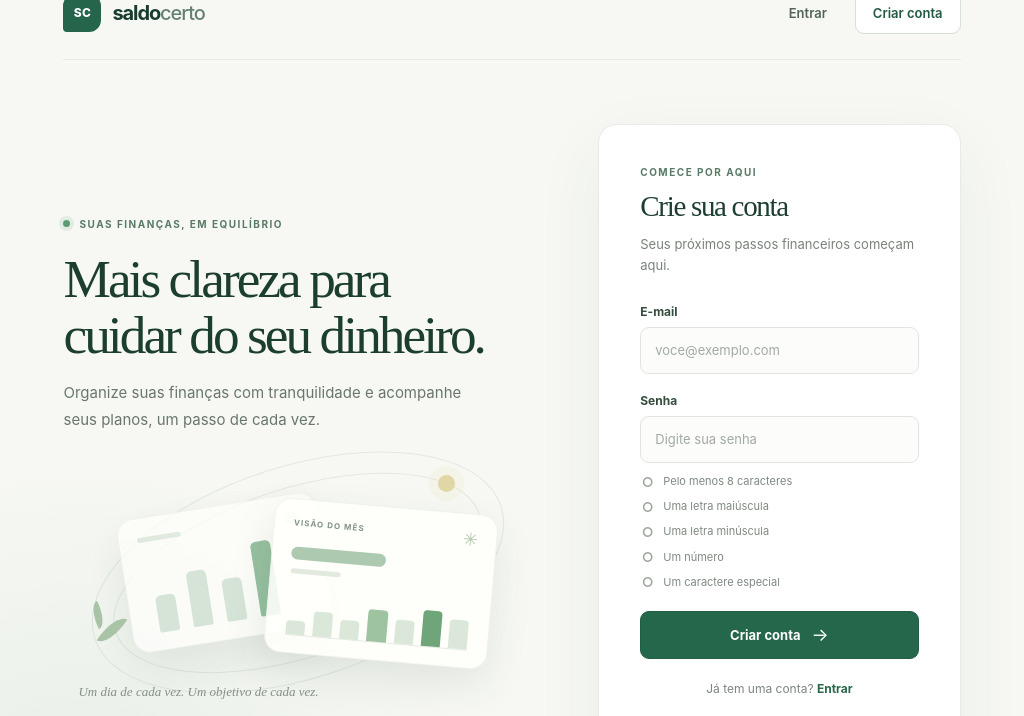
Test: authentication forms › enforces password rules and submits registration through the mocked API
Expected: the heading "Crie sua conta" is shown, top-left (640, 190), bottom-right (788, 222)
In the field labelled "E-mail": point(779, 350) top-left (640, 327), bottom-right (919, 374), type "tito@example.com"
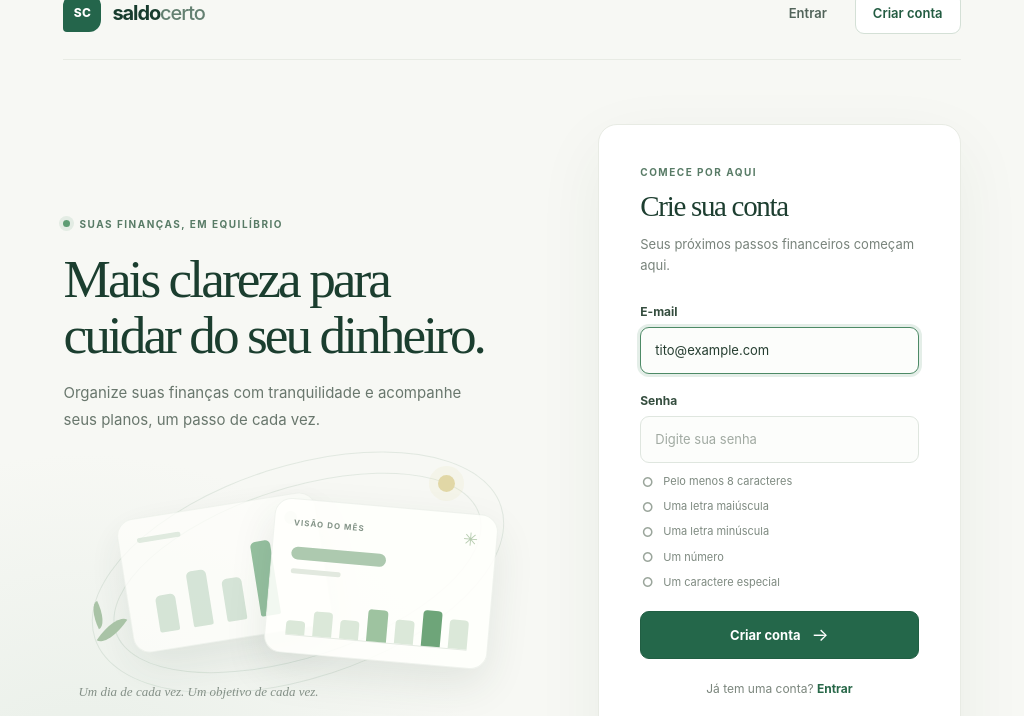
In the password field labelled "Senha": point(779, 439) top-left (640, 416), bottom-right (919, 463), type "weak"
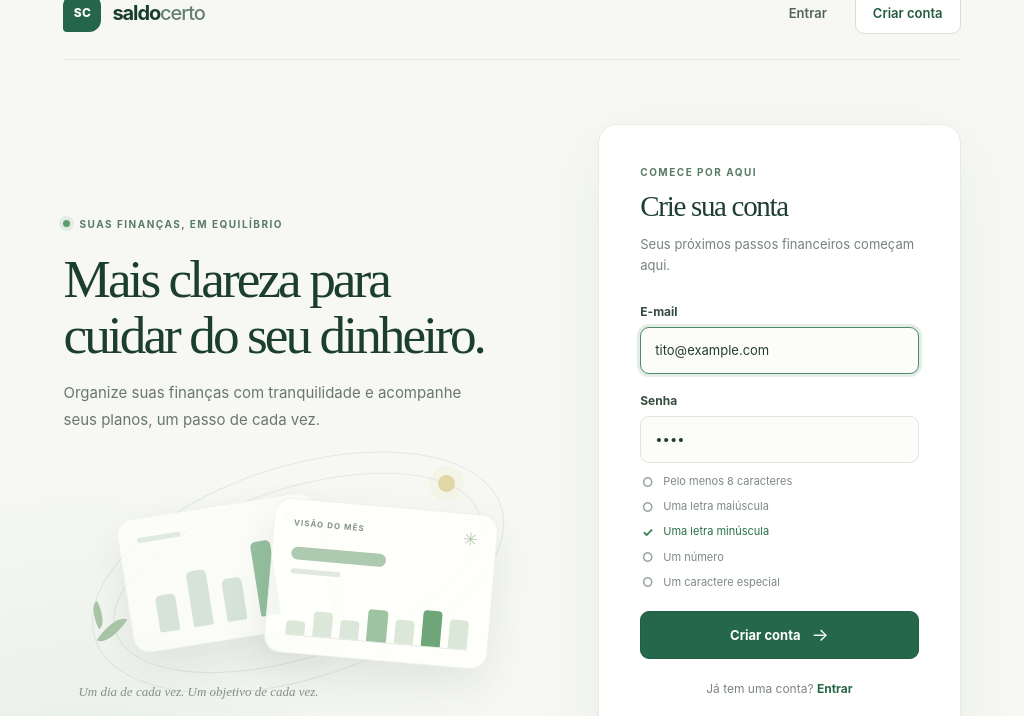
Submit the form named "Criar conta", box top-left (640, 304), bottom-right (919, 658)
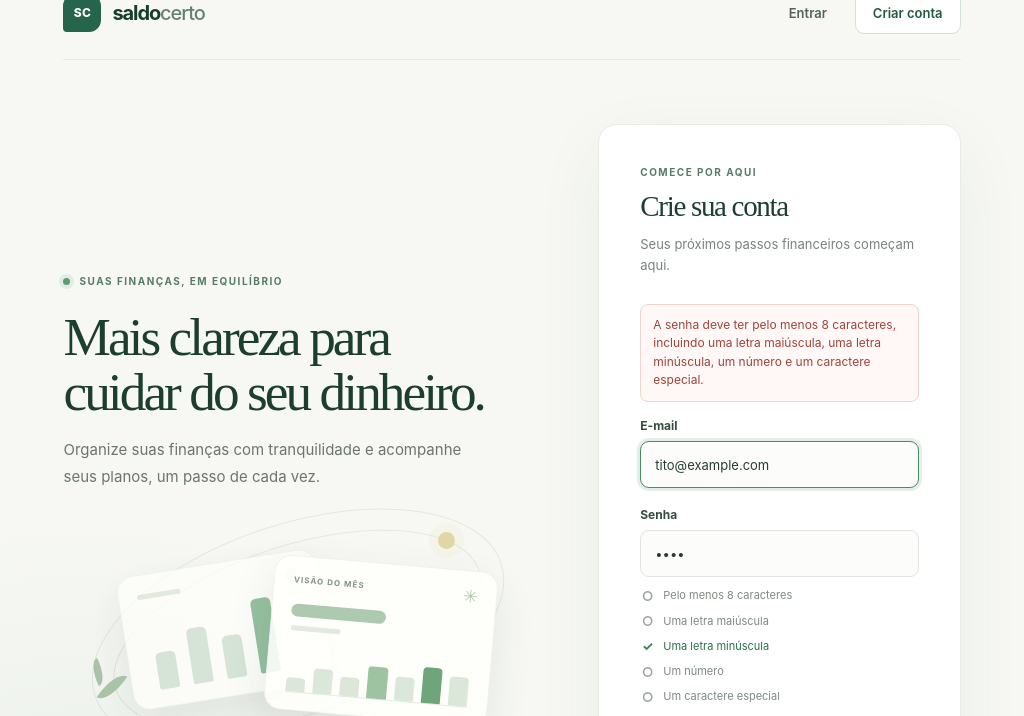
Expected: the text "Pelo menos 8 caracteres" is shown, top-left (663, 588), bottom-right (792, 604)
Now the message shows "A senha deve ter pelo menos 8 caracteres", box top-left (653, 317), bottom-right (896, 387)
In the password field labelled "Senha": point(779, 554) top-left (640, 530), bottom-right (919, 577), type "SenhaForte1!"
(page scrolled)
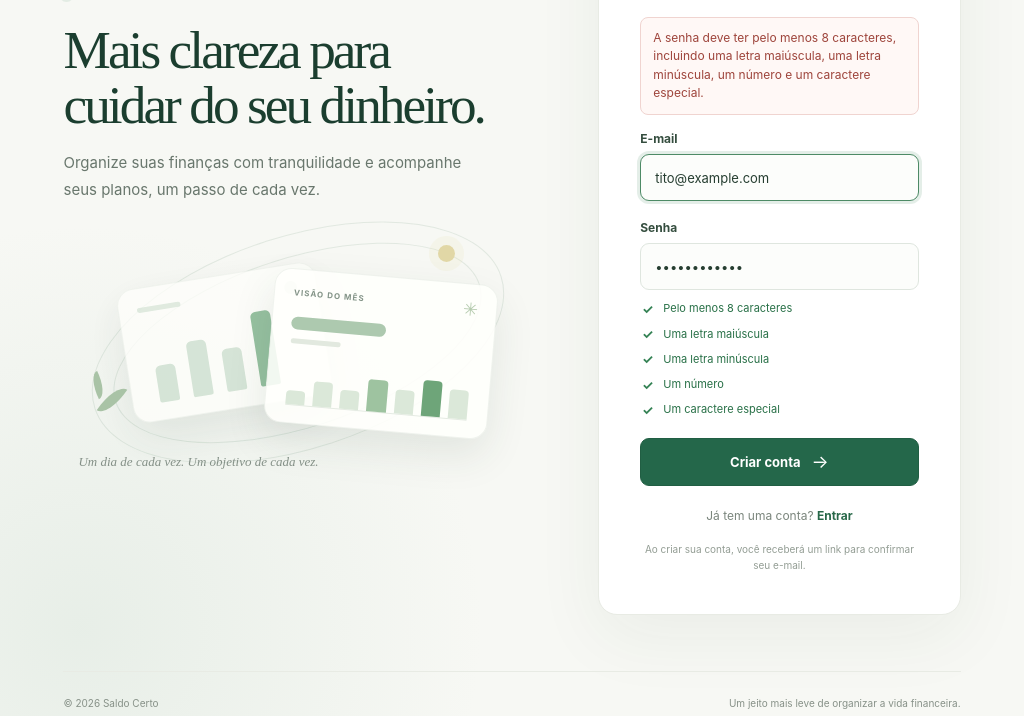
Click the button "Criar conta →": point(779, 462) top-left (640, 438), bottom-right (919, 486)
(page scrolled)
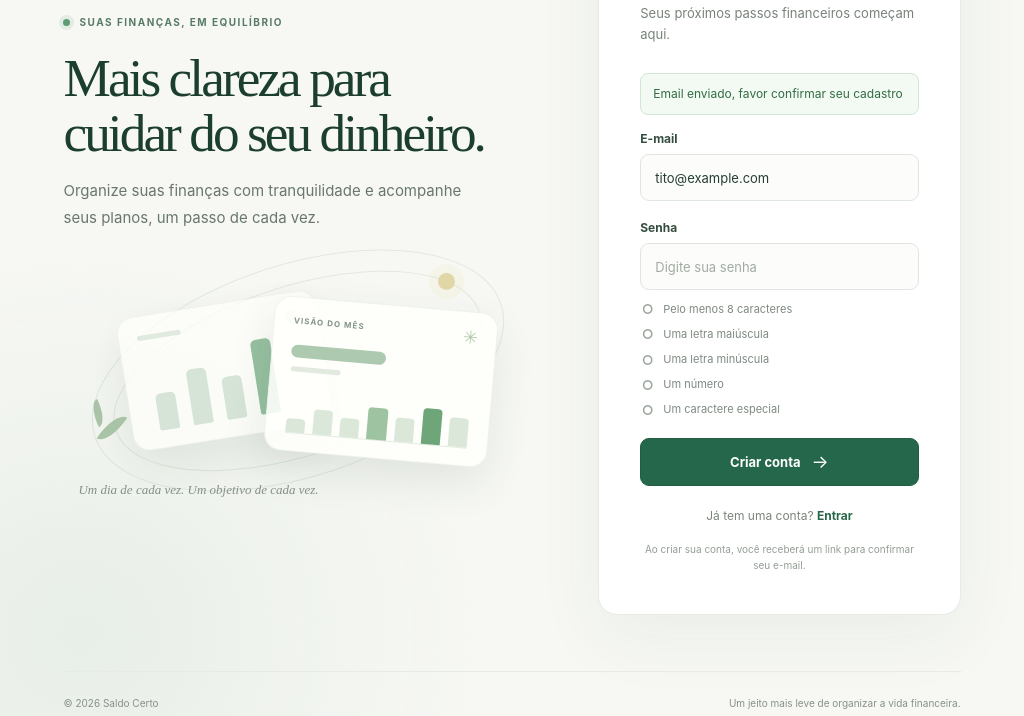
Now the message reads "Email enviado, favor confirmar seu cadastro", box top-left (653, 86), bottom-right (903, 101)
